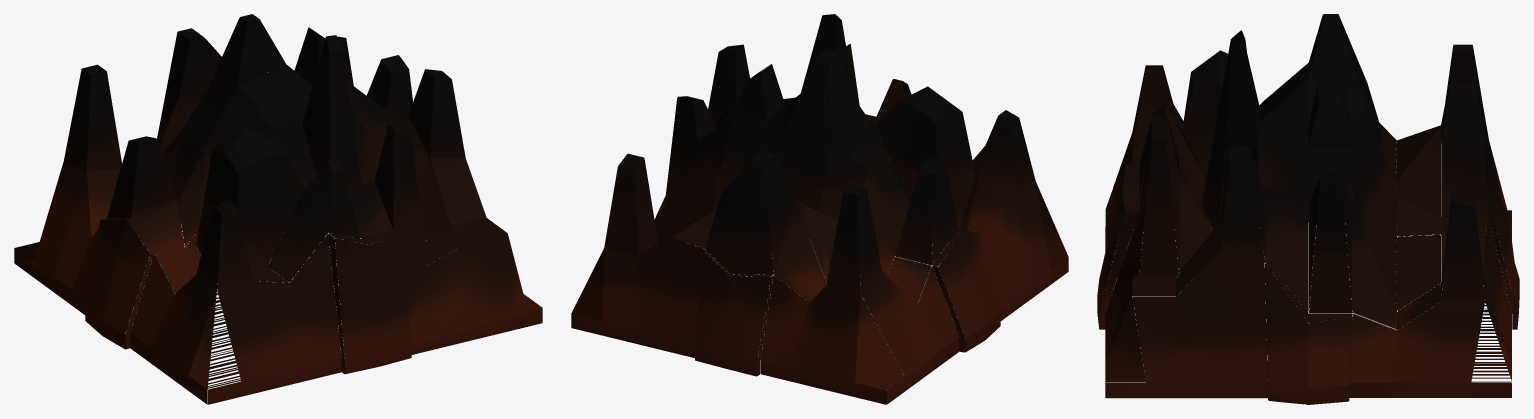
File: Terrain 1.fbx
3 views of the same model, side by side, from view 1: azimuth 30°, elevation 25°; view 2: azimuth 150°, elevation 25°; view 3: azimuth 270°, elevation 25° (orthographic). The views are drawn at different scales.
Parts seen in each view (by area): view 1: pCube11; view 2: pCube11; view 3: pCube11.
Boxes of the visible parts, left/top/right/bottom form: pCube11: left=14, top=14, right=542, bottom=404; pCube11: left=571, top=14, right=1068, bottom=404; pCube11: left=1097, top=14, right=1519, bottom=404.
Bounding box in the file's own units: 1.06 × 0.7885 × 1.04.
Materials: 1 (1 with a texture image).
